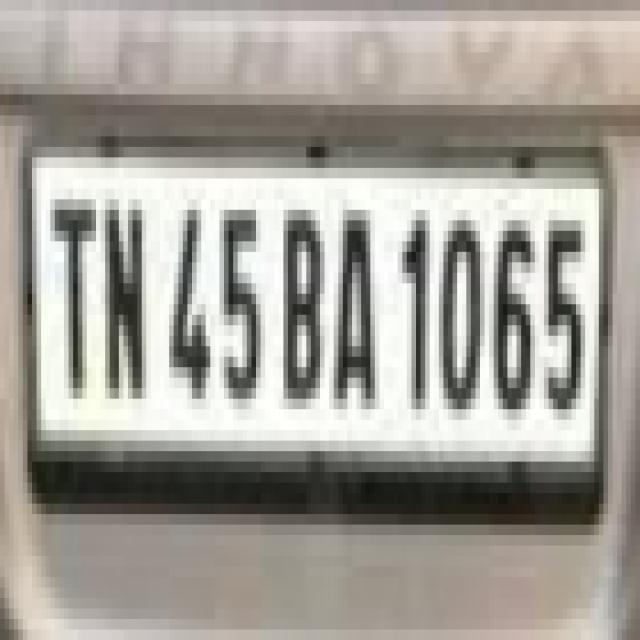0: (439, 210, 484, 413)
1: (398, 209, 433, 413)
4: (166, 202, 214, 404)
5: (218, 198, 265, 402), (544, 210, 588, 418)
6: (490, 217, 538, 412)
A: (332, 201, 378, 406)
B: (276, 201, 326, 412)
N: (103, 191, 148, 405)
T: (50, 191, 99, 397)
